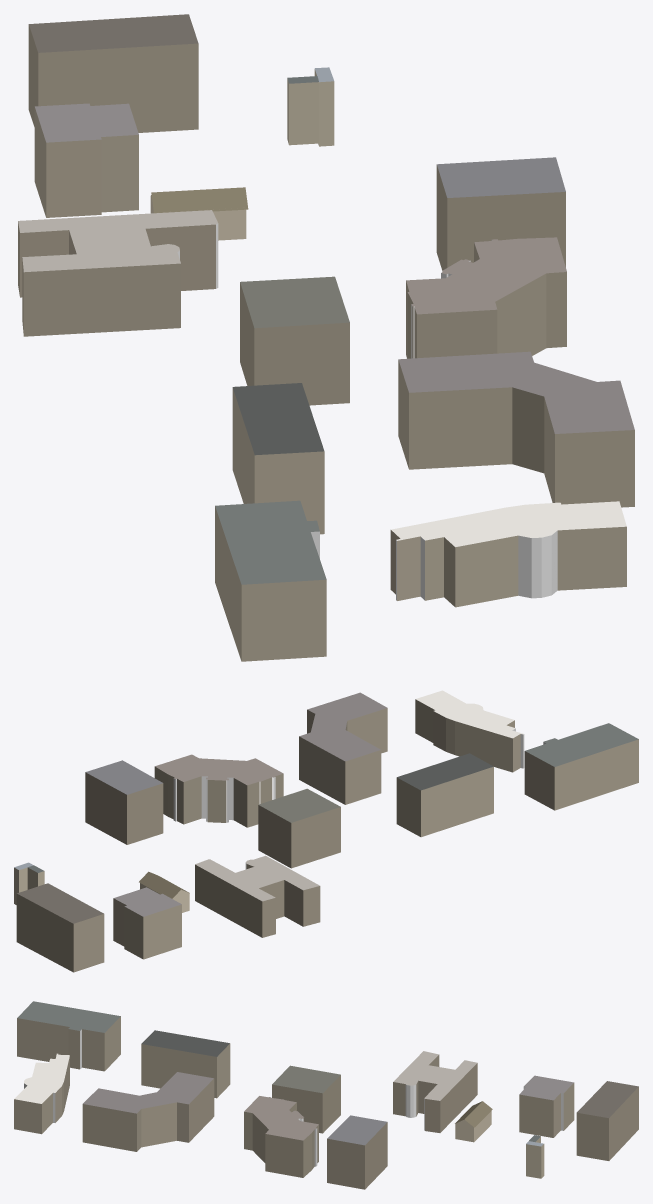
3 views of the same model, one above another, from view 1: azimuth 30°, elevation 25°; view 2: azimuth 150°, elevation 25°; view 3: azimuth 270°, elevation 25° (orthographic). The views are drawn at different scales.
Visible parts, largest first — view 1: tuile; view 2: tuile; view 3: tuile.
Part boxes in pixels (left/top/right/bottom): tuile: left=18, top=14, right=634, bottom=661; tuile: left=14, top=690, right=638, bottom=972; tuile: left=14, top=1001, right=638, bottom=1189.
Bounding box in the file's own units: 130 × 20.51 × 218.
